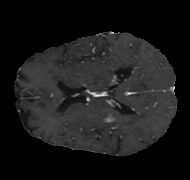Edema: (74, 105, 141, 145)
EnhancingTumors: (96, 108, 129, 136)
Necrosis: (104, 110, 125, 130)
